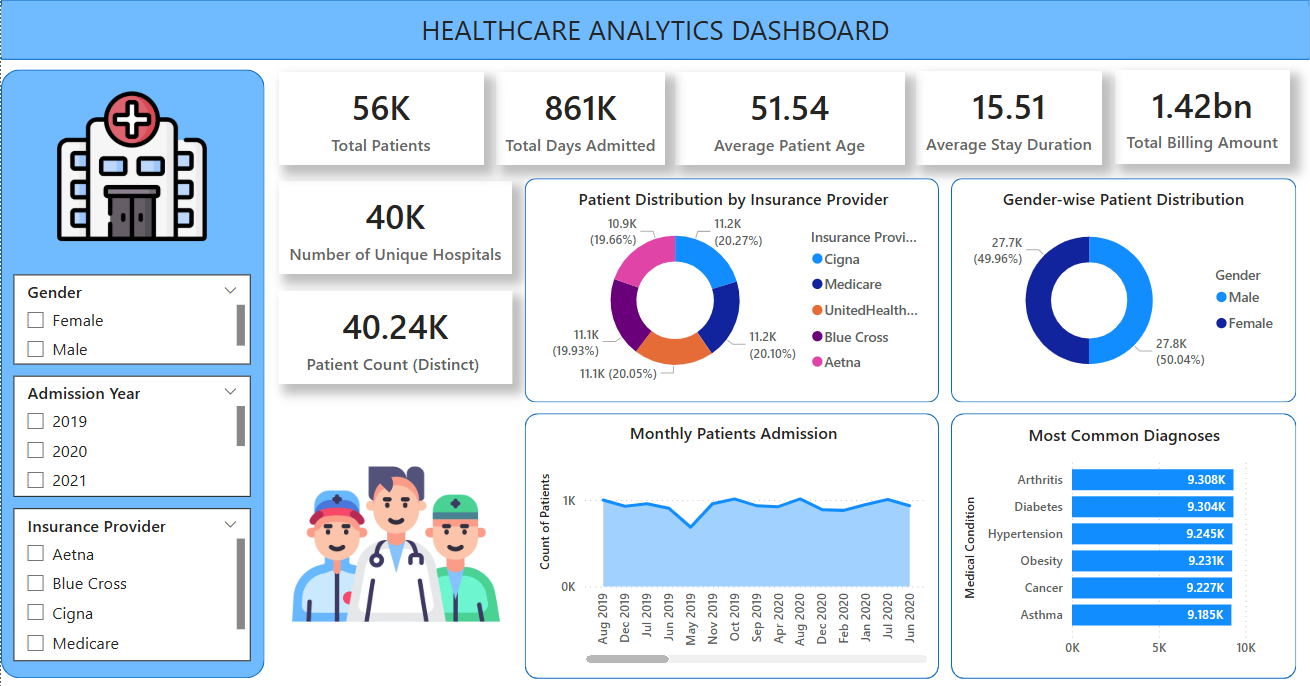

The page's visual inventory and layout, read from the dashboard file:
{"tool":"powerbi","page":{"name":"Page 1","canvas":[1280,720],"ordinal":0},"visuals":[{"type":"card","fields":{"Values":["cleaned_healthcare_dataset.Total Patients"]},"box":[271.9,117.1,200.6,91.5],"z":0},{"type":"card","fields":{"Values":["cleaned_healthcare_dataset.Hospital Count"]},"box":[271.9,223.5,228.9,91.5],"z":1000},{"type":"card","fields":{"Values":["cleaned_healthcare_dataset.Average Stay"]},"box":[894.7,116.6,182.5,91.9],"z":2000},{"type":"card","fields":{"Values":["cleaned_healthcare_dataset.Total Billing"]},"box":[1089.5,115.3,171.5,91.9],"z":3000},{"type":"shape","box":[928.9,220.8,337.9,219.4],"z":4000},{"type":"donutChart","title":"Gender-wise Patient Distribution","fields":{"Category":["cleaned_healthcare_dataset.Gender"],"Y":["cleaned_healthcare_dataset.Gender"]},"box":[937,230.2,323.1,200.6],"z":5000},{"type":"card","fields":{"Values":["cleaned_healthcare_dataset.Name"]},"box":[271.9,331.2,228.9,91.5],"z":6000},{"type":"card","fields":{"Values":["cleaned_healthcare_dataset.Age"]},"box":[659.7,117.1,224.8,91.5],"z":7000},{"type":"shape","box":[928.9,451,337.9,259.8],"z":8000},{"type":"card","fields":{"Values":["cleaned_healthcare_dataset.Total Days Admitted"]},"box":[484.6,117.1,165.6,91.5],"z":9000},{"type":"shape","box":[0,115.3,258,595.5],"z":10000},{"type":"clusteredBarChart","title":"Most Common Diagnoses","fields":{"Category":["cleaned_healthcare_dataset.Medical Condition"],"Y":["cleaned_healthcare_dataset.Name"]},"box":[938.3,460.4,321.8,238.3],"z":11000},{"type":"slicer","fields":{"Values":["cleaned_healthcare_dataset.Insurance Provider"]},"box":[12.3,544.8,231.9,149.6],"z":12000},{"type":"slicer","fields":{"Values":["cleaned_healthcare_dataset.Admission Year"]},"box":[12.3,414.4,231.9,118],"z":13000},{"type":"slicer","fields":{"Values":["cleaned_healthcare_dataset.Gender"]},"box":[12.3,315.6,231.9,87.8],"z":14000},{"type":"shape","box":[0,46.7,1280.3,59],"z":15000},{"type":"textbox","box":[0,52.1,1280.3,50.8],"z":16000},{"type":"shape","box":[512.9,451,405.2,259.8],"z":17000},{"type":"lineChart","title":"Monthly Patients Admission","fields":{"Y":["cleaned_healthcare_dataset.Admission Period"],"Category":["cleaned_healthcare_dataset.Admission Period"]},"box":[522.3,459.1,389.1,242.3],"z":18000},{"type":"shape","box":[512.9,220.8,405.2,219.4],"z":19000},{"type":"donutChart","title":"Patient Distribution by Insurance Provider","fields":{"Category":["cleaned_healthcare_dataset.Insurance Provider"],"Y":["cleaned_healthcare_dataset.Insurance Provider"]},"box":[522.3,230.2,389.1,200.6],"z":20000},{"type":"image","box":[280,472.5,212.7,214.1],"z":21000},{"type":"image","box":[49.8,127.9,156.2,162.9],"z":22000}]}

Visuals, with their boxes on the page's 1280x720 design canvas (x1, y1, x2, y2). These are canvas units, not pixel positions in the 1310x686 screenshot, which may show the page scaled, cropped or inside an application window:
card - cleaned_healthcare_dataset.Total Patients: rect(272, 117, 472, 209)
card - cleaned_healthcare_dataset.Hospital Count: rect(272, 224, 501, 315)
card - cleaned_healthcare_dataset.Average Stay: rect(895, 117, 1077, 208)
card - cleaned_healthcare_dataset.Total Billing: rect(1090, 115, 1261, 207)
shape: rect(929, 221, 1267, 440)
"Gender-wise Patient Distribution" donutChart: rect(937, 230, 1260, 431)
card - cleaned_healthcare_dataset.Name: rect(272, 331, 501, 423)
card - cleaned_healthcare_dataset.Age: rect(660, 117, 884, 209)
shape: rect(929, 451, 1267, 711)
card - cleaned_healthcare_dataset.Total Days Admitted: rect(485, 117, 650, 209)
shape: rect(0, 115, 258, 711)
"Most Common Diagnoses" clusteredBarChart: rect(938, 460, 1260, 699)
slicer - cleaned_healthcare_dataset.Insurance Provider: rect(12, 545, 244, 694)
slicer - cleaned_healthcare_dataset.Admission Year: rect(12, 414, 244, 532)
slicer - cleaned_healthcare_dataset.Gender: rect(12, 316, 244, 403)
shape: rect(0, 47, 1280, 106)
textbox: rect(0, 52, 1280, 103)
shape: rect(513, 451, 918, 711)
"Monthly Patients Admission" lineChart: rect(522, 459, 911, 701)
shape: rect(513, 221, 918, 440)
"Patient Distribution by Insurance Provider" donutChart: rect(522, 230, 911, 431)
image: rect(280, 472, 493, 687)
image: rect(50, 128, 206, 291)
